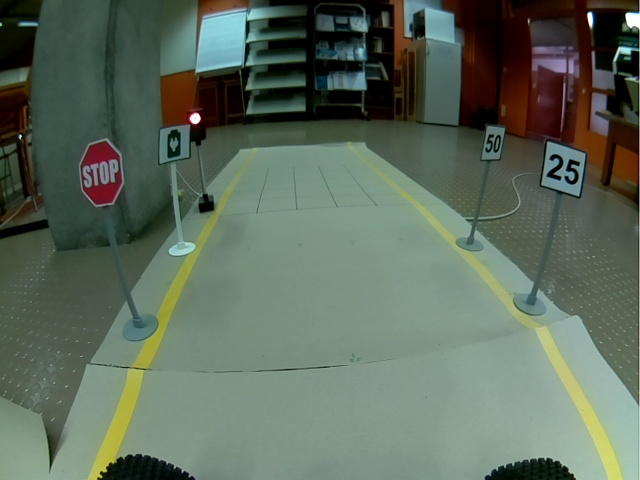battery: (158, 124, 191, 165)
speed25: (540, 138, 587, 199)
speed50: (481, 124, 505, 161)
stop: (78, 138, 125, 207)
trafficLightRed: (187, 109, 207, 142)
